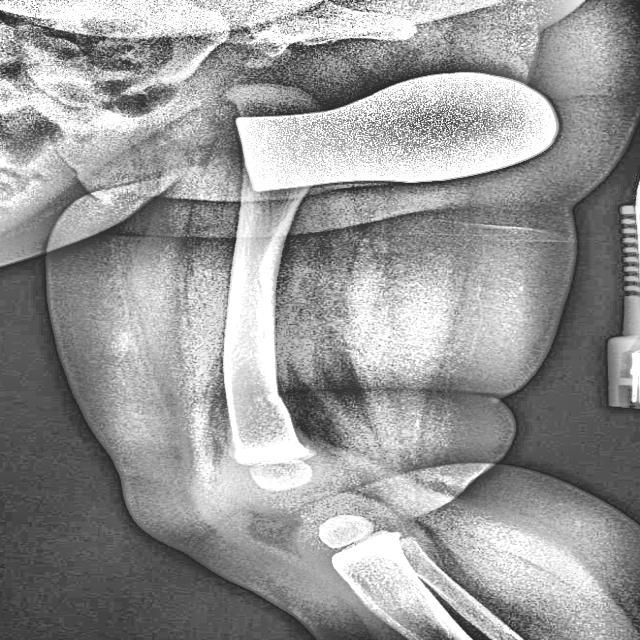fracture: (250, 274, 270, 370), (257, 393, 285, 413)
